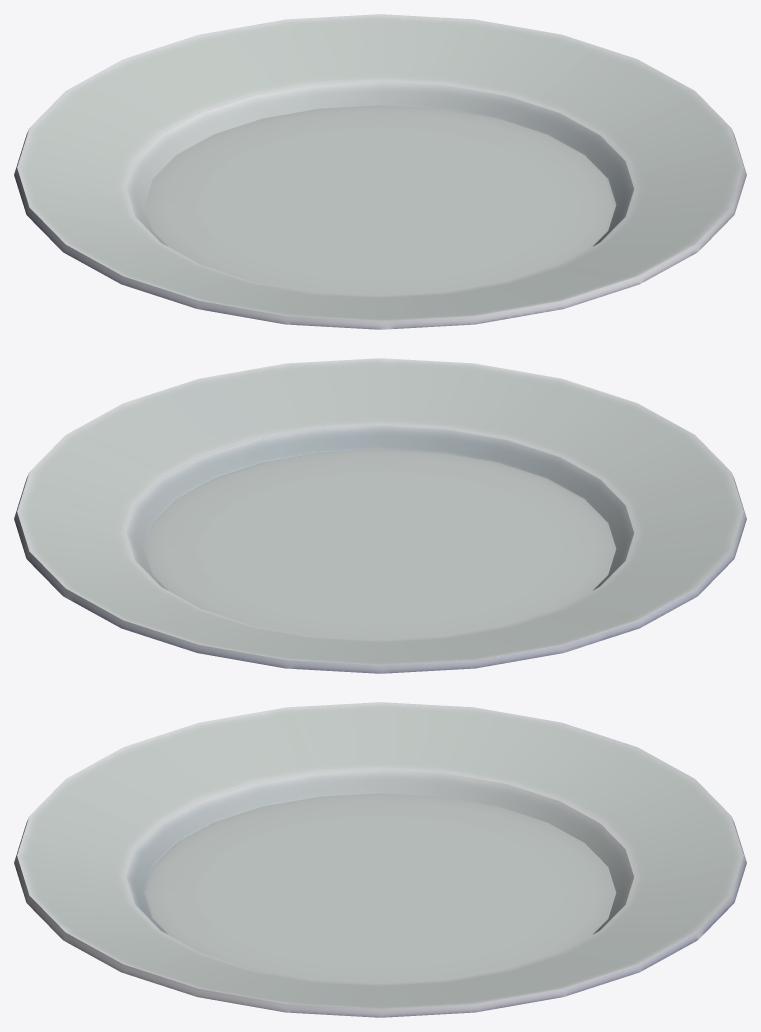
Rendered from plate.glb.
The picture shows the model from 3 angles, top to bottom: view 1: azimuth 30°, elevation 25°; view 2: azimuth 150°, elevation 25°; view 3: azimuth 270°, elevation 25°; orthographic projection.
Parts seen in each view (by area): view 1: utensils_plate; view 2: utensils_plate; view 3: utensils_plate.
Boxes of the visible parts, left/top/right/bottom form: utensils_plate: left=14, top=14, right=746, bottom=329; utensils_plate: left=14, top=358, right=746, bottom=673; utensils_plate: left=14, top=702, right=746, bottom=1017.
Size of the model in its own units: 1.5 by 0.0839 by 1.5.
Materials: 1 (1 with a texture image).
